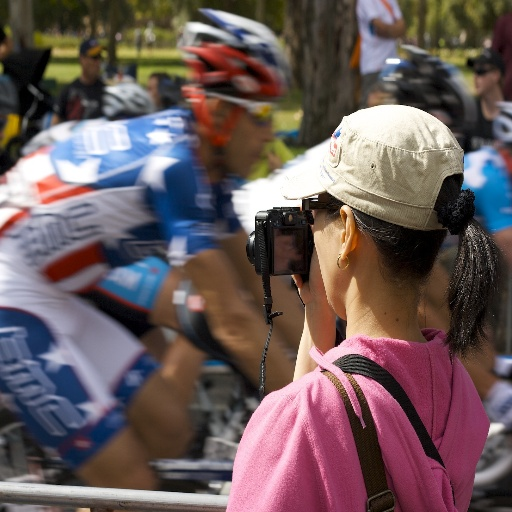hand: (288, 202, 328, 309)
